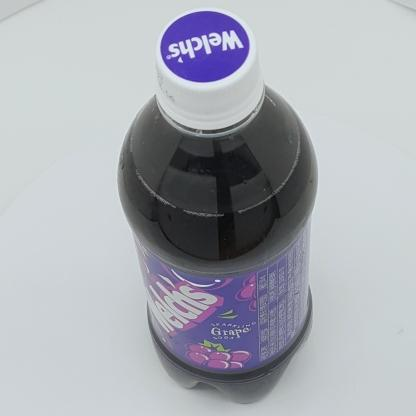-------500ml: (117, 7, 319, 405)
